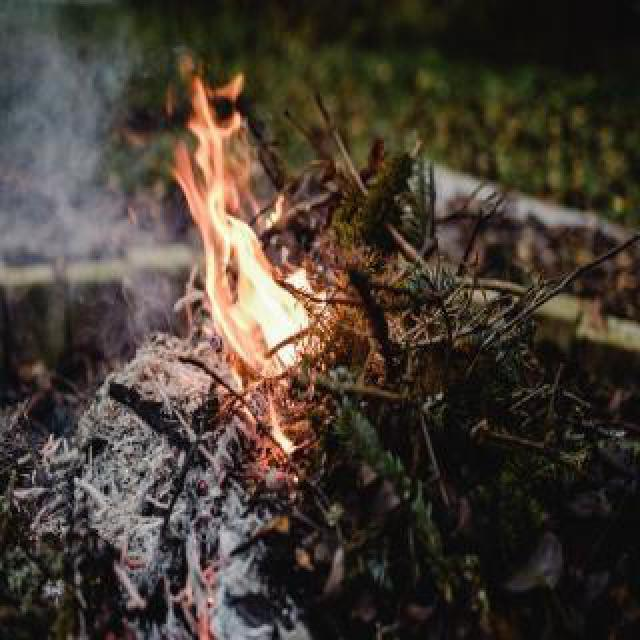Fire: (170, 54, 334, 466)
Smoke: (2, 4, 174, 474)
